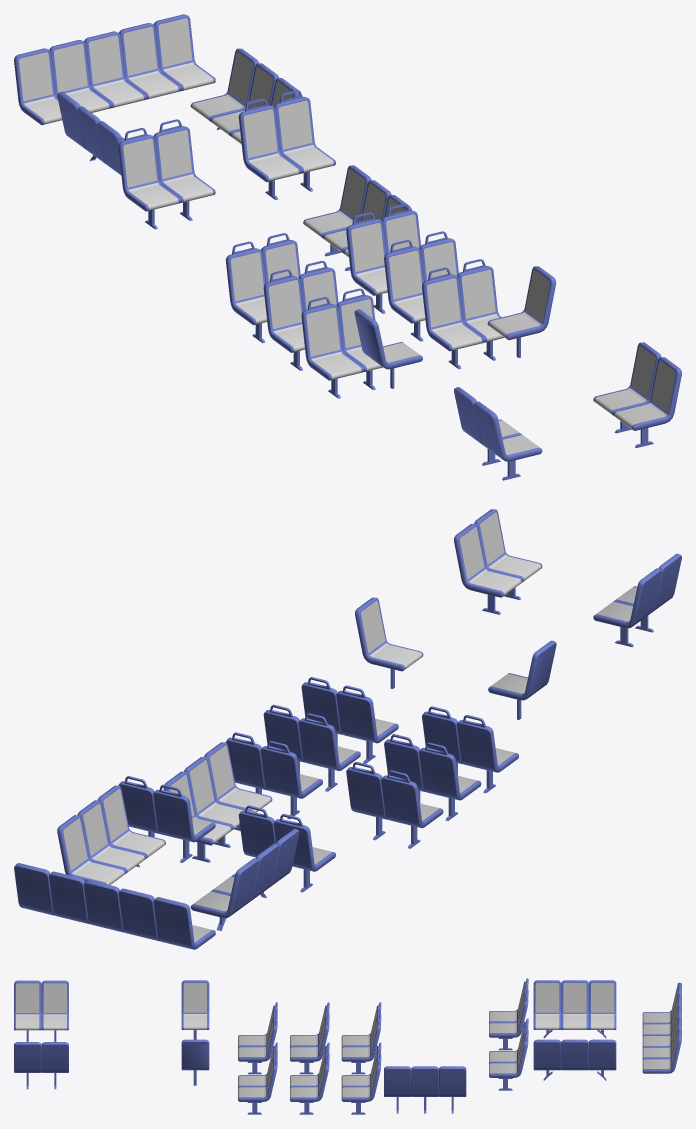
File: citybus_biarticulated_seats.dae
3 renders of one model, top to bottom at view 1: azimuth 30°, elevation 25°; view 2: azimuth 150°, elevation 25°; view 3: azimuth 270°, elevation 25°, orthographic. The views are drawn at different scales.
Parts seen in each view (by area): view 1: bcitybus_seats_8, bcitybus_seats_6, bcitybus_seats_2, bcitybus_seats_4, bcitybus_seats_3, bcitybus_seats_10, bcitybus_seats_7, bcitybus_seats_1, bcitybus_seats_5; view 2: bcitybus_seats_7, bcitybus_seats_8, bcitybus_seats_4, bcitybus_seats_10, bcitybus_seats_3, bcitybus_seats_2, bcitybus_seats_6, bcitybus_seats_5, bcitybus_seats_1; view 3: bcitybus_seats_7, bcitybus_seats_10, bcitybus_seats_5, bcitybus_seats_4, bcitybus_seats_3, bcitybus_seats_2, bcitybus_seats_8, bcitybus_seats_6, bcitybus_seats_1.
Boxes of the visible parts, x1,y1,x2,y2 form: bcitybus_seats_8: (14,14,215,125); bcitybus_seats_6: (118,90,335,229); bcitybus_seats_2: (301,259,504,398); bcitybus_seats_4: (225,203,420,343); bcitybus_seats_3: (263,231,458,370); bcitybus_seats_10: (454,342,681,480); bcitybus_seats_7: (57,48,299,174); bcitybus_seats_1: (354,266,556,388); bcitybus_seats_5: (303,165,411,270); bcitybus_seats_7: (57,785,299,930); bcitybus_seats_8: (14,863,215,949); bcitybus_seats_4: (226,732,443,848); bcitybus_seats_10: (454,509,681,647); bcitybus_seats_3: (263,704,481,820); bcitybus_seats_2: (301,677,518,793); bcitybus_seats_6: (118,776,335,892); bcitybus_seats_5: (163,742,272,862); bcitybus_seats_1: (355,597,556,719); bcitybus_seats_7: (533,980,616,1080); bcitybus_seats_10: (14,980,68,1089); bcitybus_seats_5: (384,1066,466,1113); bcitybus_seats_4: (341,1002,381,1114); bcitybus_seats_3: (290,1002,329,1114); bcitybus_seats_2: (238,1002,277,1114); bcitybus_seats_8: (642,982,681,1073); bcitybus_seats_6: (489,978,528,1090); bcitybus_seats_1: (181,980,209,1085).
Bounding box in the file's own units: 2.47 × 10.96 × 1.48.
